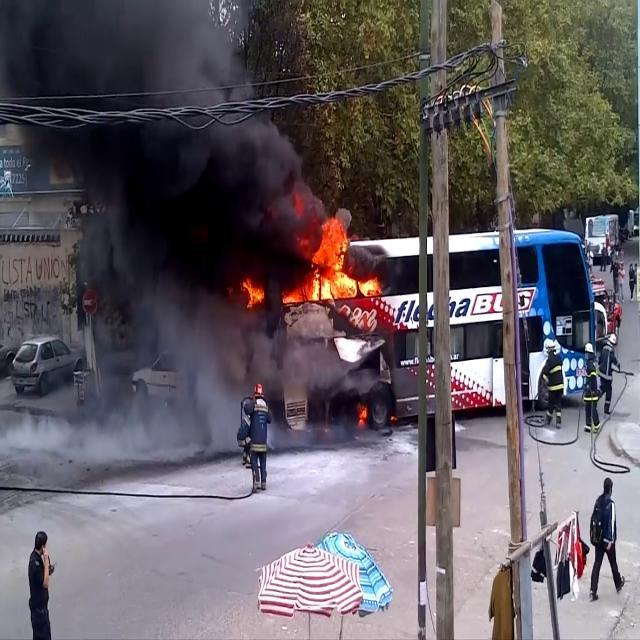Fire: (298, 209, 380, 307), (238, 274, 266, 308)
Smoke: (0, 0, 289, 451)
